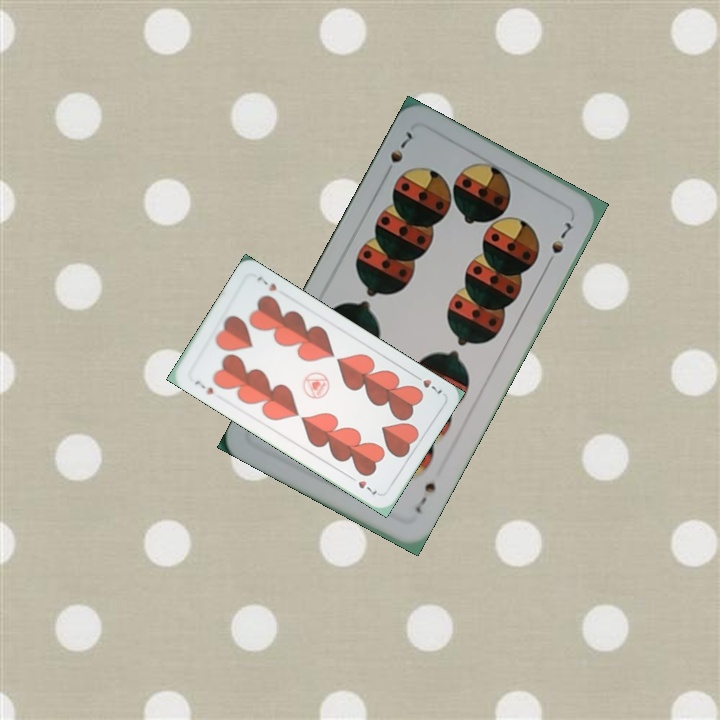H7: (409, 370, 445, 397), (191, 376, 216, 398)
S7: (380, 127, 416, 180), (410, 478, 439, 516)
